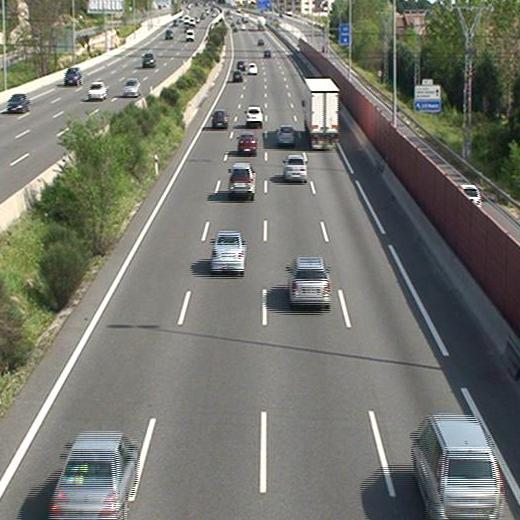car: (410, 417, 506, 520), (49, 435, 135, 520), (289, 259, 332, 306), (211, 230, 245, 271), (228, 164, 255, 196), (284, 156, 306, 180), (276, 125, 295, 146), (237, 135, 256, 155), (211, 110, 229, 129), (246, 106, 264, 124), (247, 63, 258, 74), (232, 71, 243, 82), (235, 61, 244, 71)
truck: (302, 79, 339, 150)
